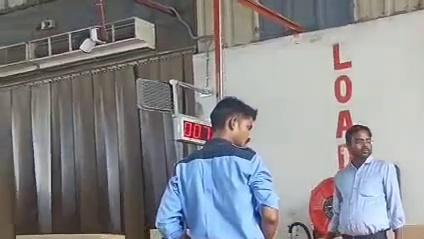box: (17, 235, 122, 239), (403, 225, 424, 239), (150, 229, 162, 239)
